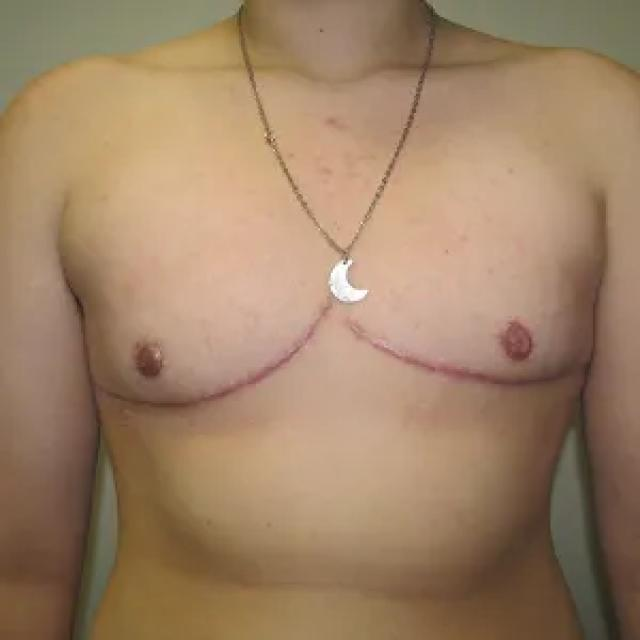Seno herido: (77, 231, 338, 434), (340, 231, 606, 408)
